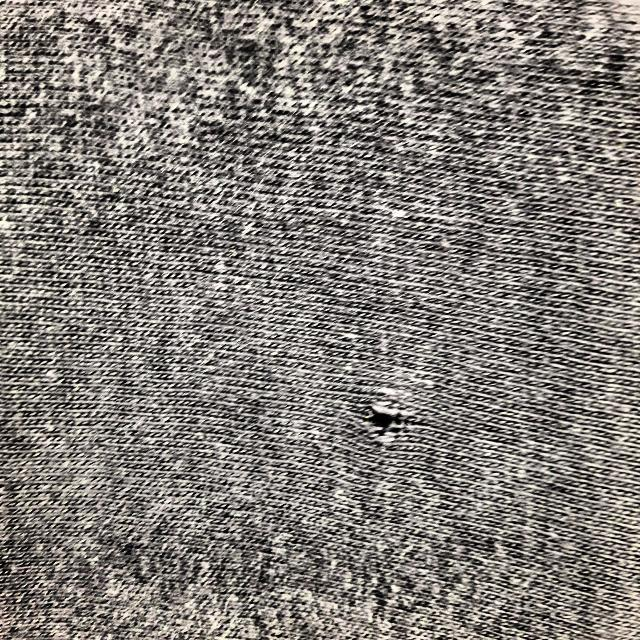Hole: (383, 231, 459, 287)
